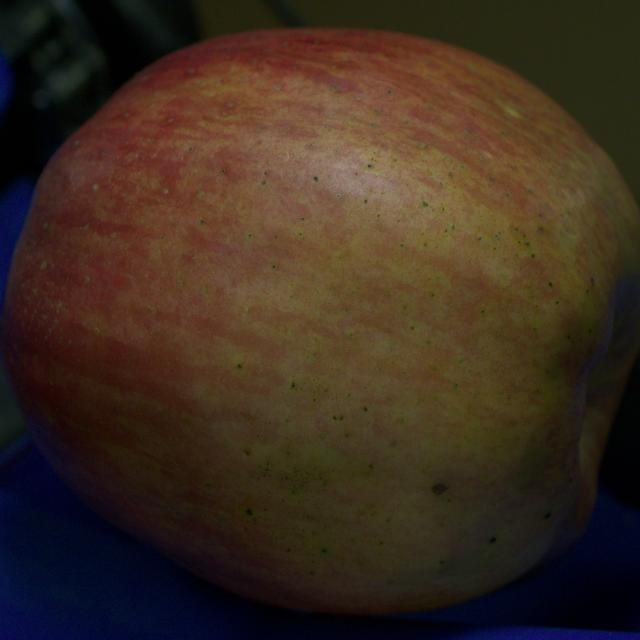apple: (0, 29, 639, 614)
pest: (432, 485, 446, 494)
